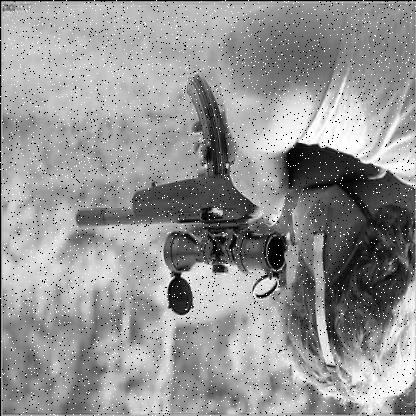rifle: (58, 67, 390, 329)
